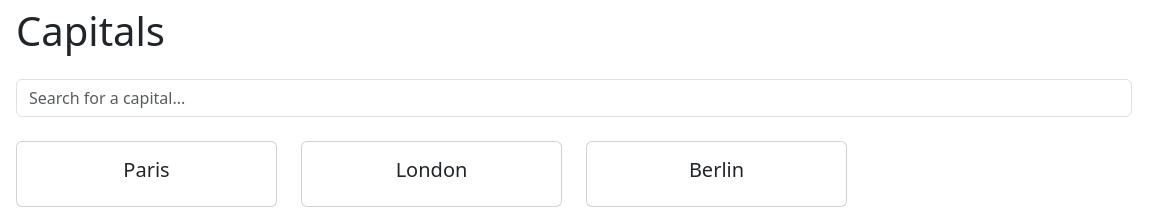
Test: CapitalsPage › filters capitals based on search input
The image size is (1149, 224).
In the field with placeholder "Search for a capital...": (574, 98) [16,79,1132,117], type "lon"
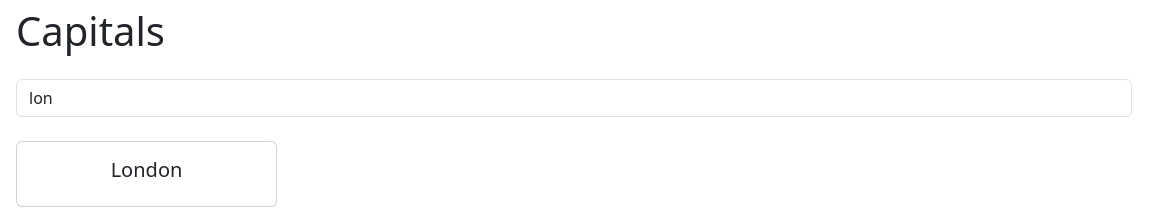
expect the text "London" is shown: met, box [111,156,182,183]
expect the link "Paris" is gone: met
expect the link "Berlin" is gone: met
